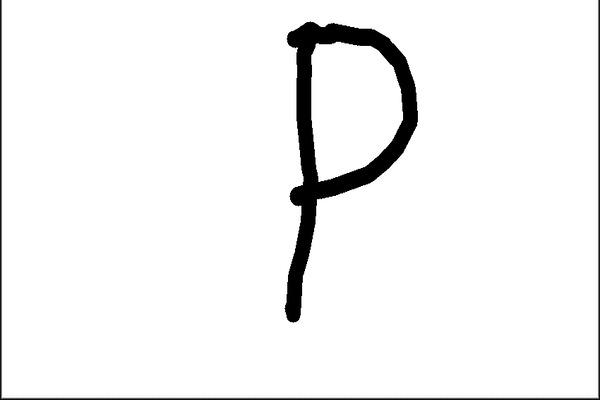P: (264, 14, 430, 331)
